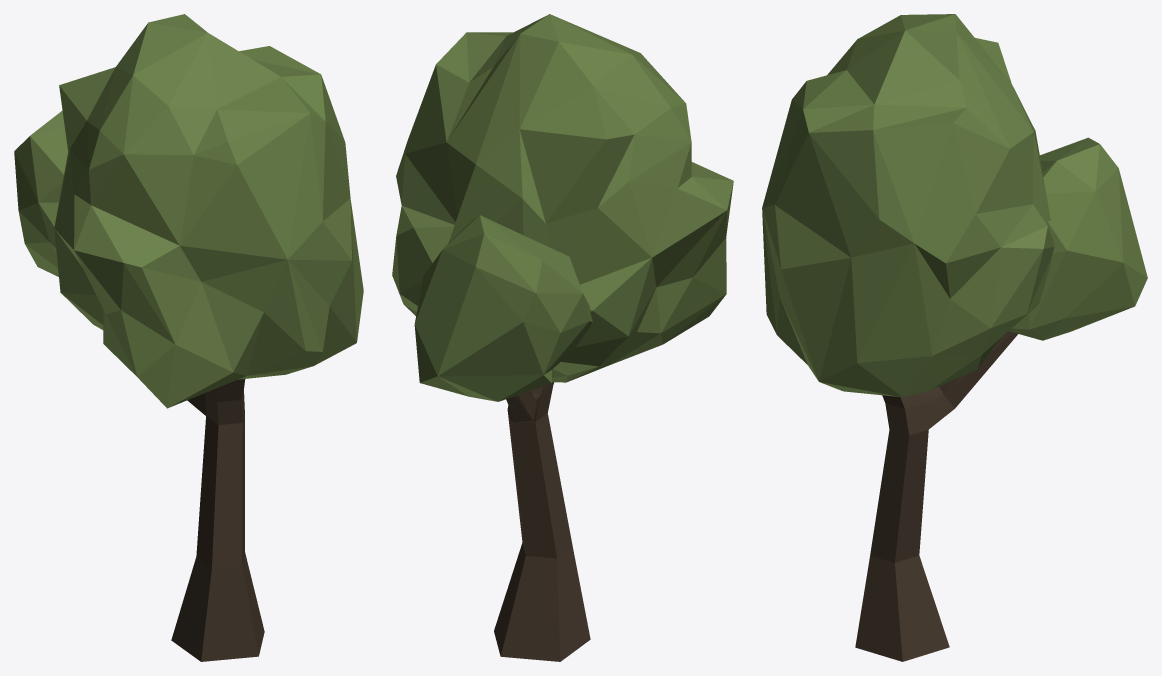
The model's file is Tree_13.gltf.
The picture shows the model from 3 angles, left to right: view 1: azimuth 30°, elevation 25°; view 2: azimuth 150°, elevation 25°; view 3: azimuth 270°, elevation 25°; orthographic projection. The views are drawn at different scales.
Visible parts, largest first — view 1: Tree_13; view 2: Tree_13; view 3: Tree_13.
Boxes of the visible parts, x1,y1,x2,y2 form: Tree_13: [14, 14, 363, 661]; Tree_13: [392, 14, 733, 661]; Tree_13: [762, 14, 1147, 661].
Bounding box in the file's own units: 0.3128 × 0.6569 × 0.3701.
Materials: 1 (1 with a texture image).
